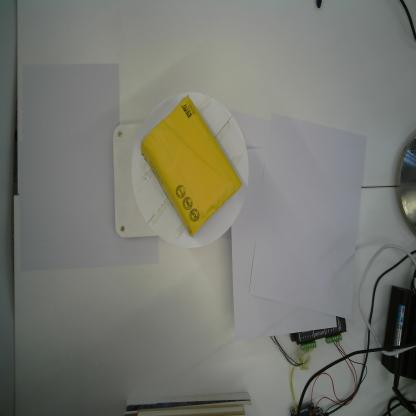Tissue: (140, 96, 244, 238)
